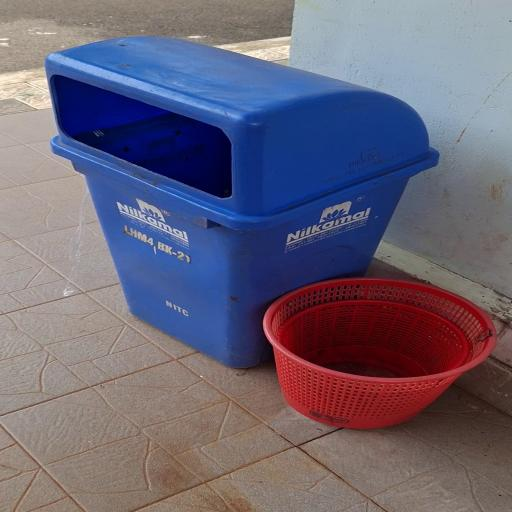Nilkamal-dustbin-detection: (46, 37, 438, 367)
